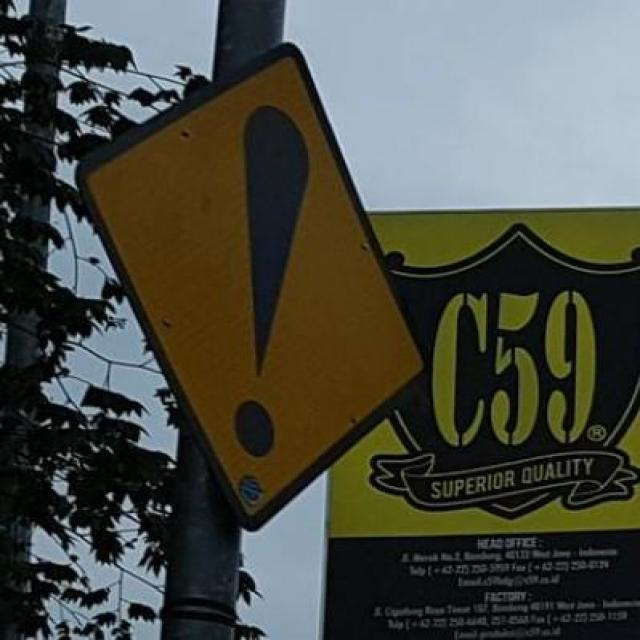traffic sign: (87, 49, 426, 524)
